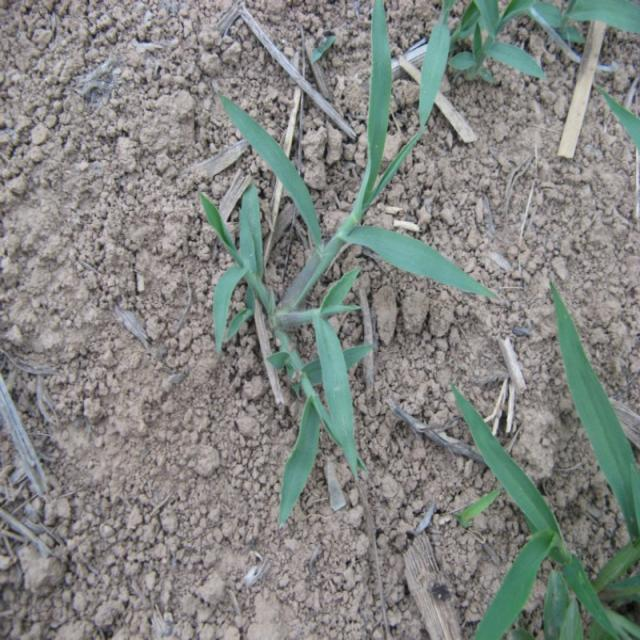bg: (202, 1, 505, 516)
